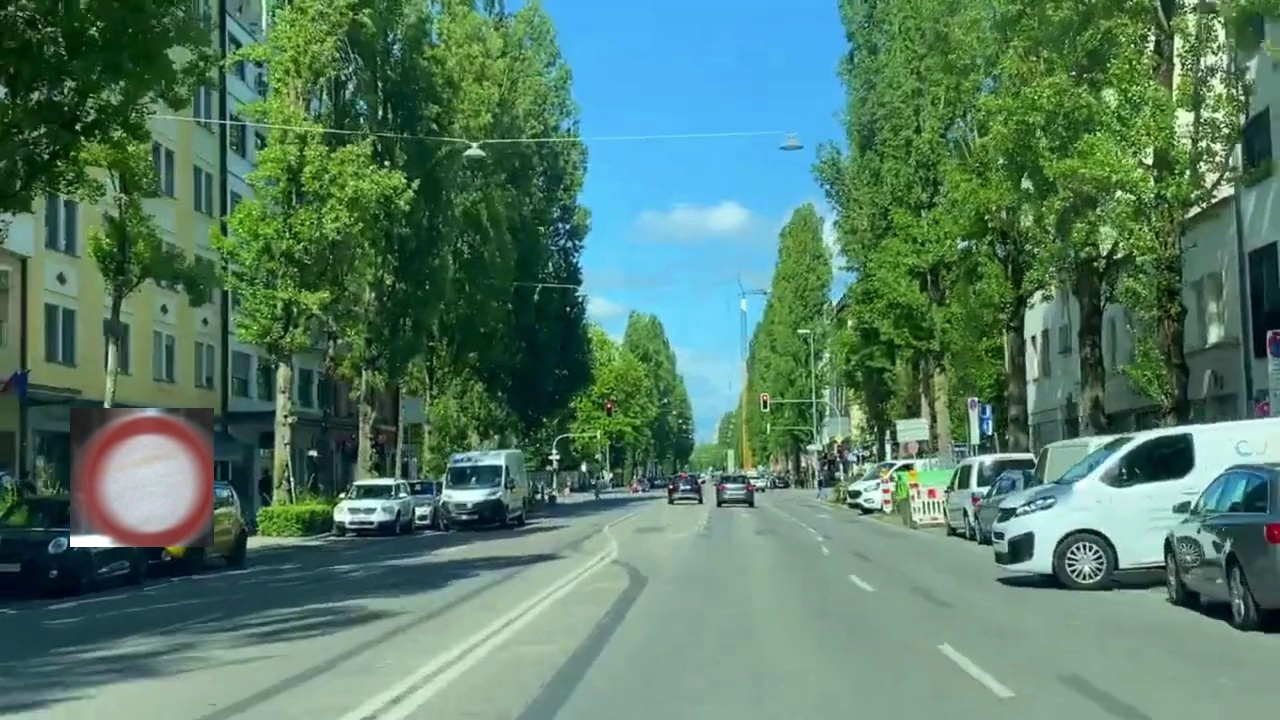No vehicles: (70, 408, 214, 547)
